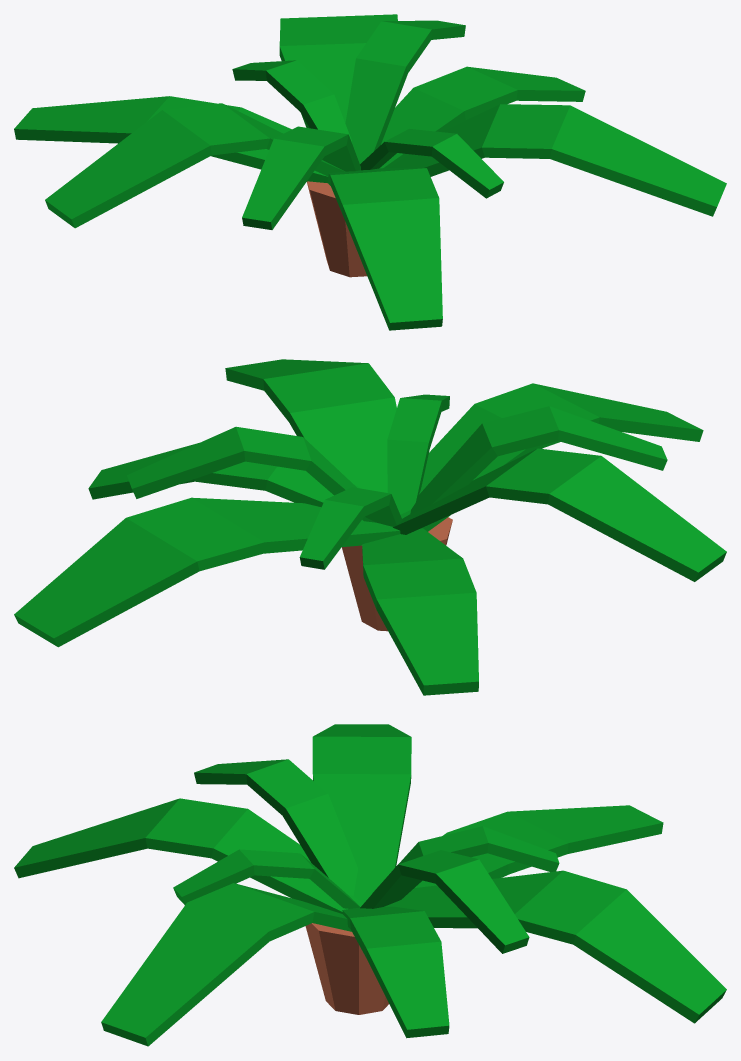
The model's file is plant.fbx.
3 views of the same model, one above another, from view 1: azimuth 30°, elevation 25°; view 2: azimuth 150°, elevation 25°; view 3: azimuth 270°, elevation 25° (orthographic). The views are drawn at different scales.
Parts seen in each view (by area): view 1: Plane, Cylinder; view 2: Plane, Cylinder; view 3: Plane, Cylinder.
Part boxes in pixels (bbox=[...]): Plane: bbox=[14, 14, 726, 330]; Cylinder: bbox=[307, 181, 366, 277]; Plane: bbox=[14, 359, 726, 695]; Cylinder: bbox=[342, 517, 452, 631]; Plane: bbox=[14, 724, 726, 1046]; Cylinder: bbox=[305, 923, 388, 1014].
Size of the model in its own units: 504 by 154 by 543.
